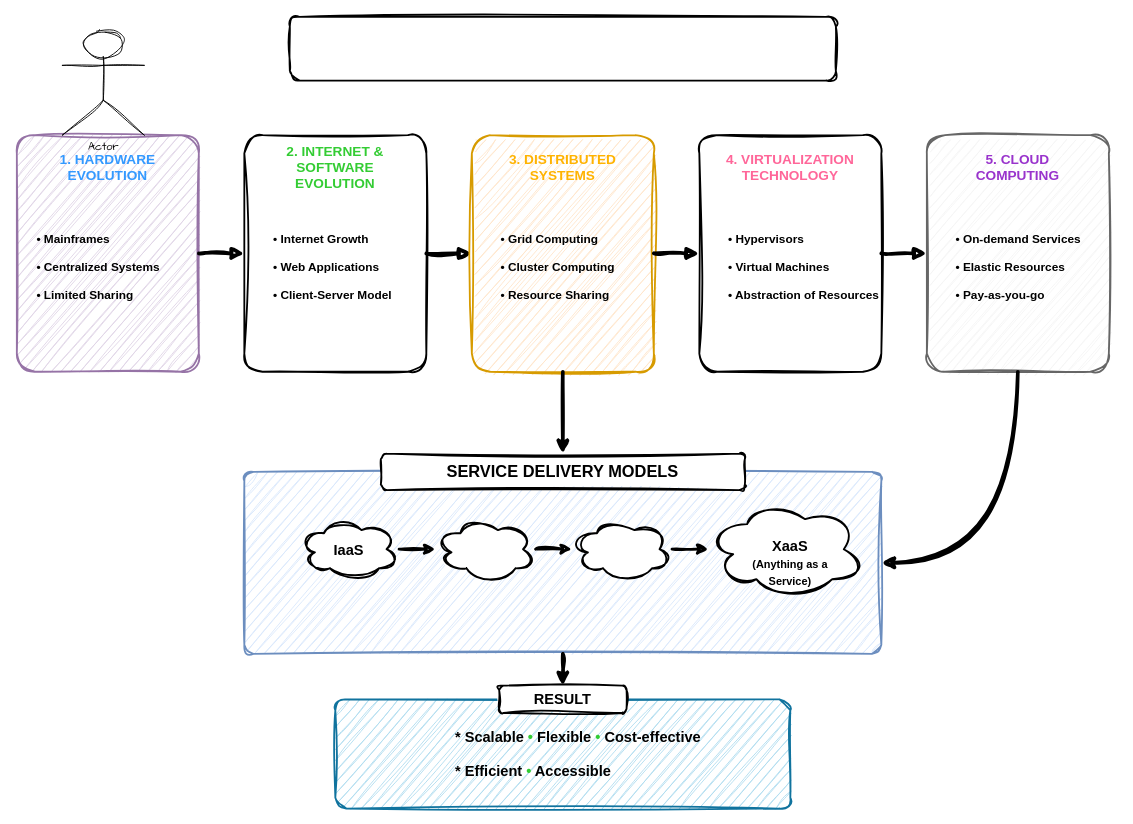
Some shapes in this 1133 by 824 pixel diagram are drawn without their labels. The box of each missing label's shape, as (x1, y1, x2, y2) in pixels:
EVOLUTION OF CLOUD COMPUTING: (288, 15, 836, 81)
PaaS: (434, 516, 536, 581)
SaaS: (571, 516, 672, 581)
